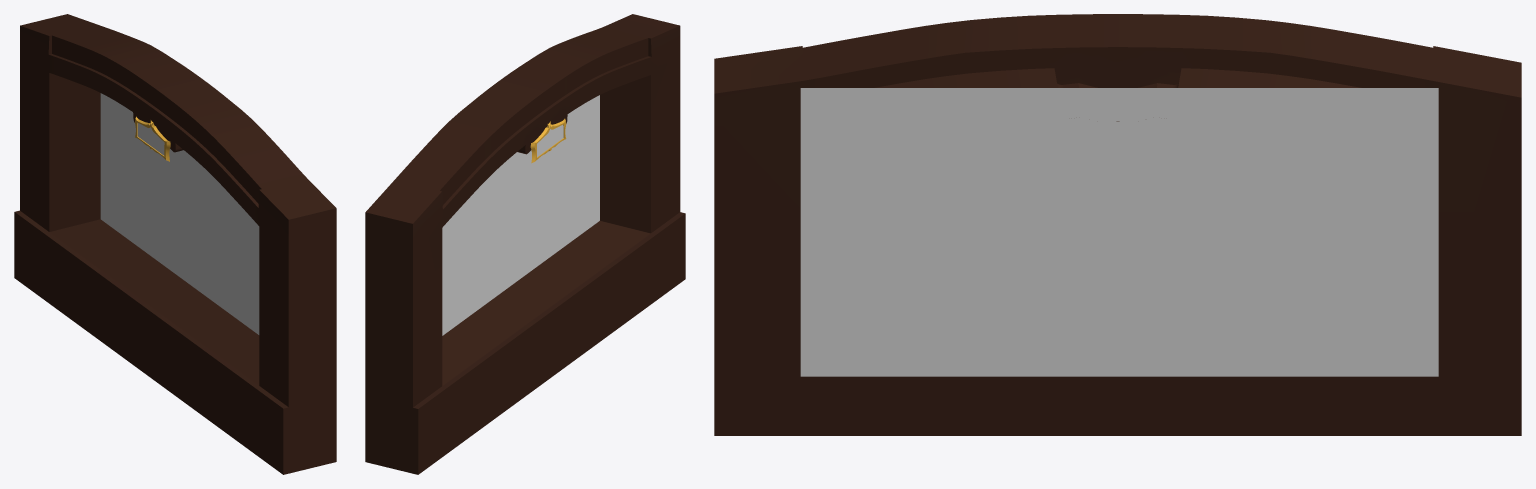
File: theater.fbx
3 renders of one model, left to right at view 1: azimuth 30°, elevation 25°; view 2: azimuth 150°, elevation 25°; view 3: azimuth 270°, elevation 25°, orthographic. The views are drawn at different scales.
Parts seen in each view (by area): view 1: base, backround, ap backround, ap frame; view 2: base, backround, ap frame, ap backround; view 3: backround, base.
Part boxes in pixels (<box>): base: <box>14,14,336,474</box>; backround: <box>100,93,259,334</box>; ap backround: <box>137,123,164,155</box>; ap frame: <box>135,116,170,161</box>; base: <box>365,14,685,474</box>; backround: <box>442,95,599,335</box>; ap frame: <box>530,118,566,163</box>; ap backround: <box>537,125,563,156</box>; backround: <box>800,88,1438,376</box>; base: <box>714,14,1521,435</box>.
Size of the model in its own units: 45.31 by 232 by 397.
